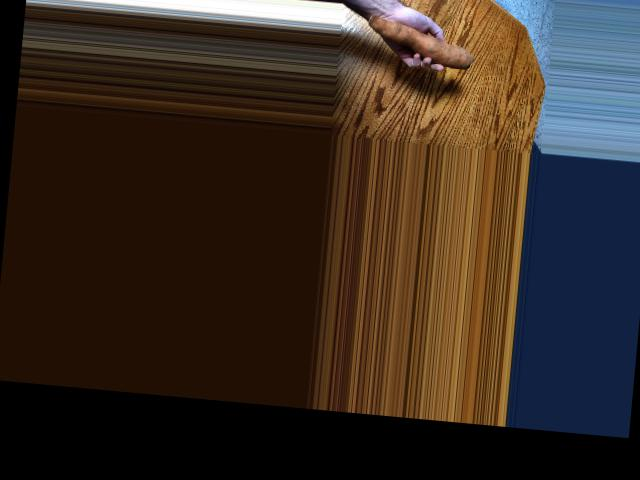sweet_potato: (376, 22, 491, 77)
